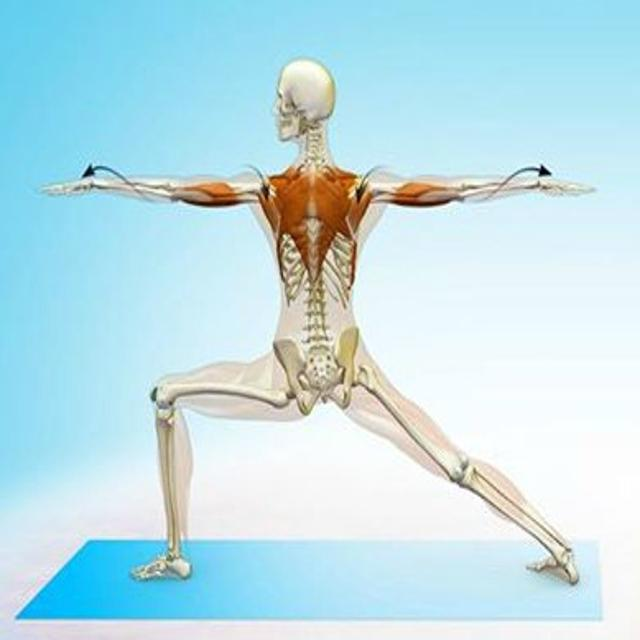Warrior_II: (37, 55, 610, 591)
